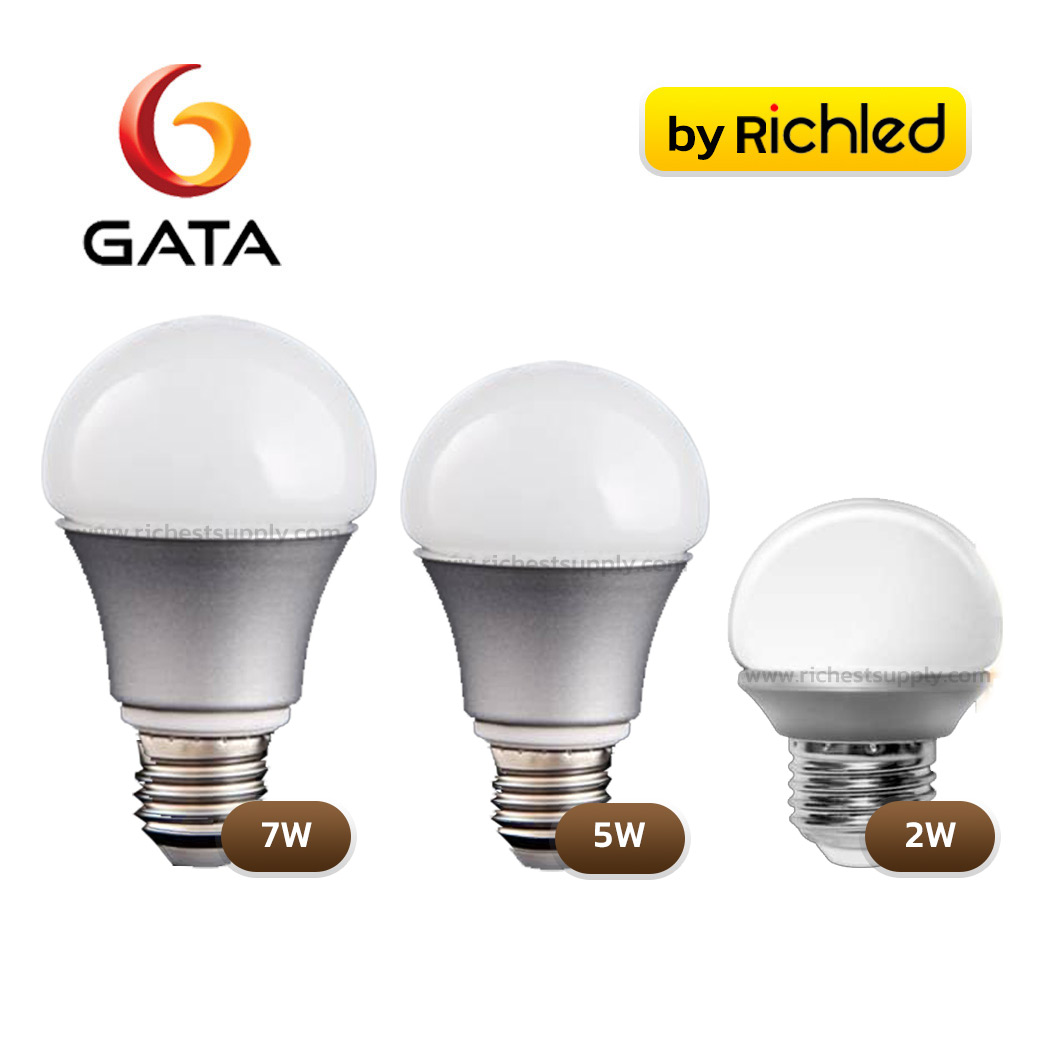Light_bulb: (26, 302, 398, 890), (388, 352, 724, 890), (728, 484, 1008, 875)
